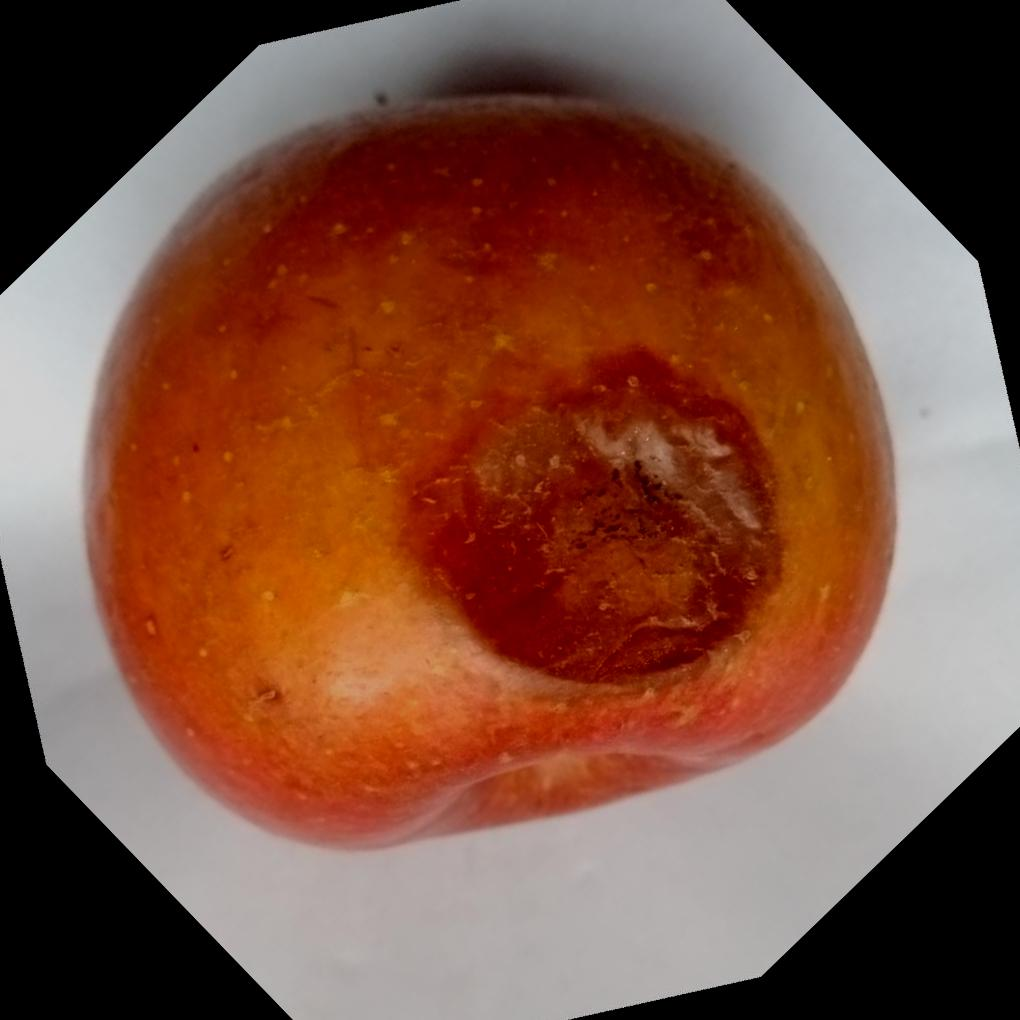FreshOrange: (81, 87, 901, 851)
